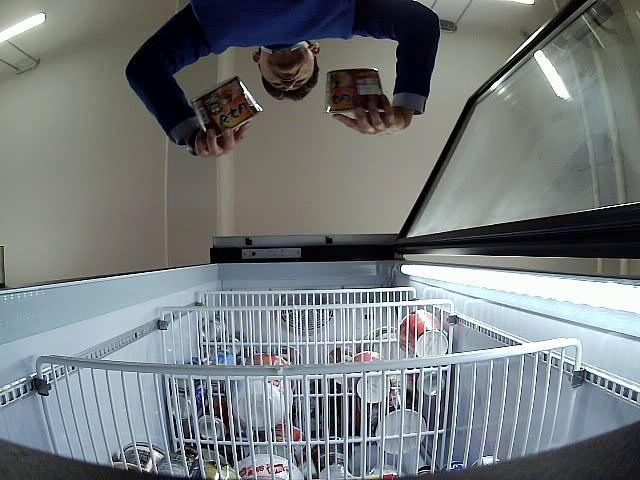05_nuguri_L: (191, 76, 263, 138), (322, 68, 384, 112)
